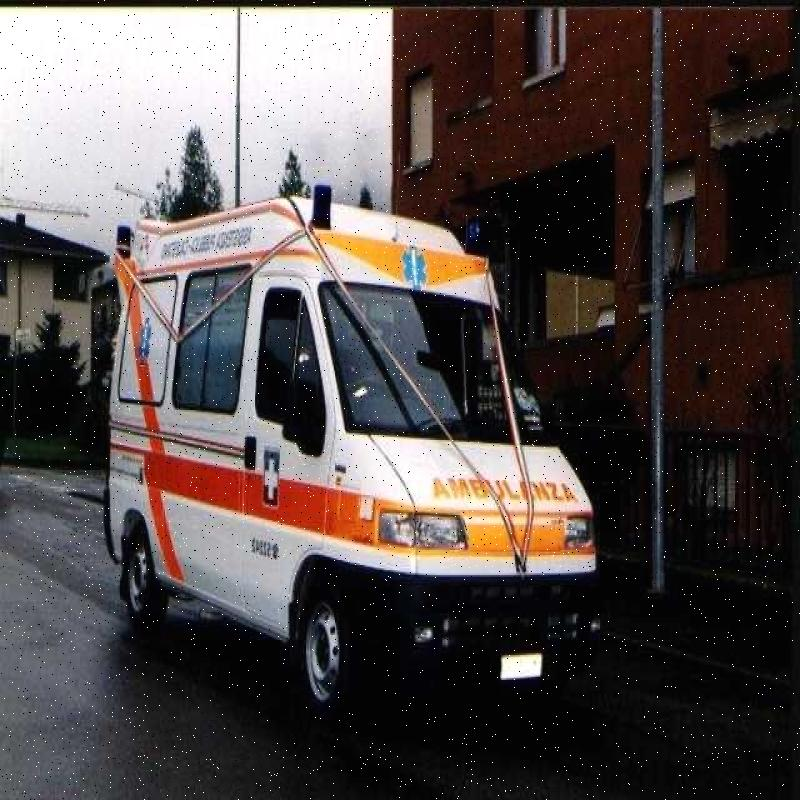AmbulanceSiren: (302, 175, 331, 244), (456, 218, 488, 253)
